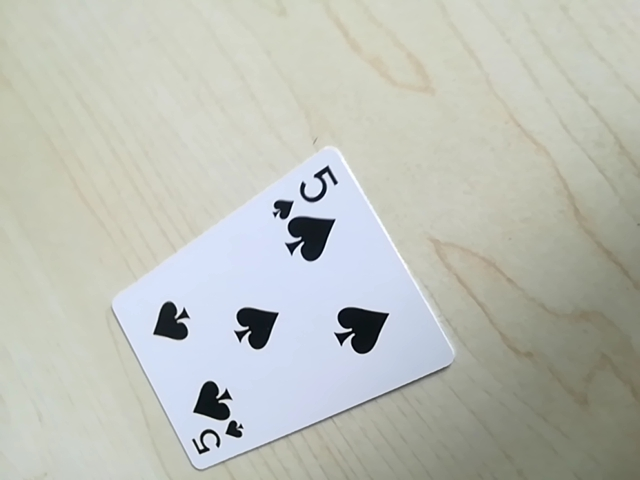ht 5: (271, 158, 342, 217), (181, 417, 249, 465)
